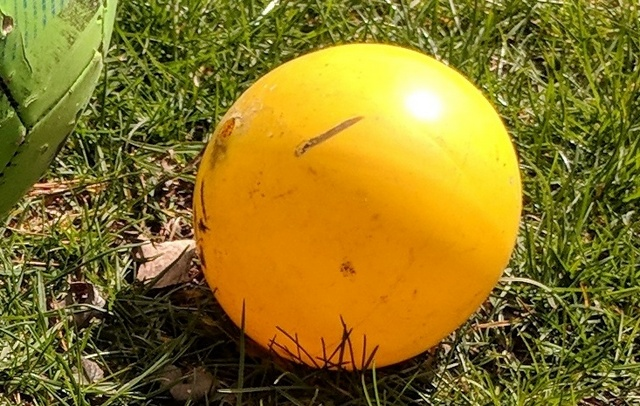ball: (192, 44, 526, 371)
